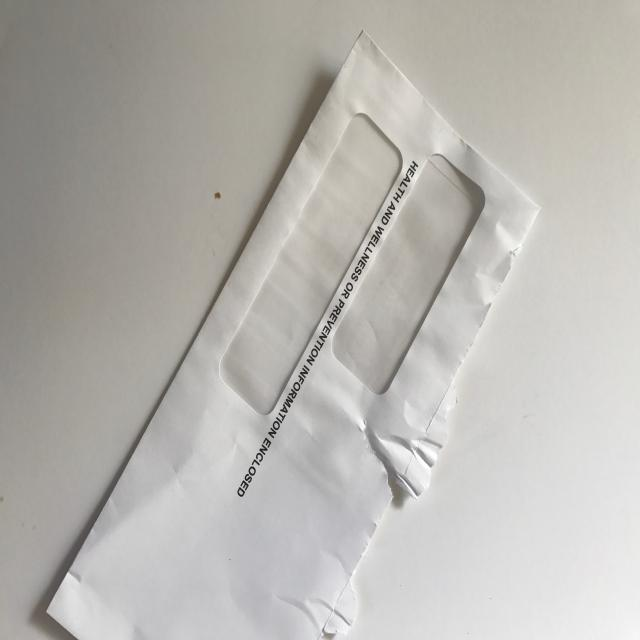Paper: (47, 31, 543, 640)
